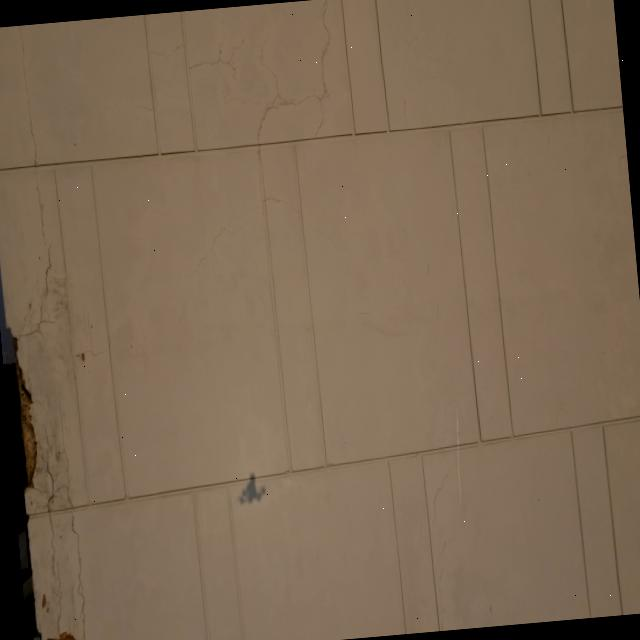crack: (18, 331, 84, 639), (234, 6, 296, 141), (320, 0, 343, 112), (38, 250, 53, 330), (187, 57, 235, 79)
spalling: (3, 338, 35, 528), (9, 25, 36, 167), (27, 170, 43, 243)
